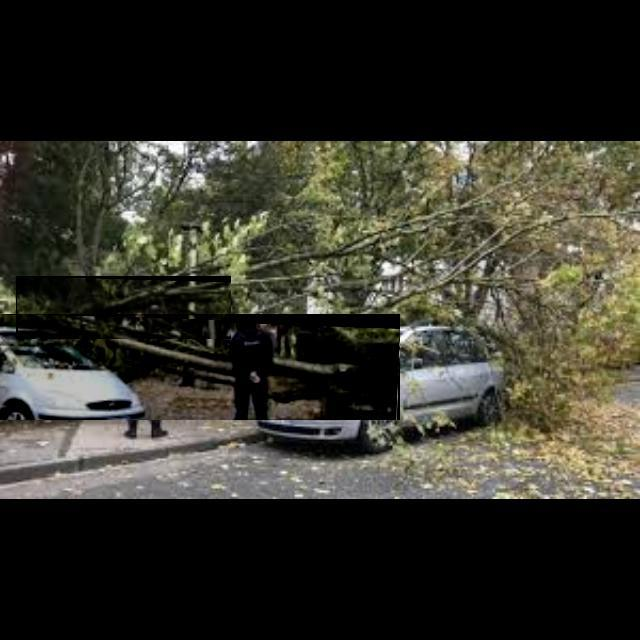fallen_tree: (0, 314, 401, 421), (16, 276, 232, 340)
